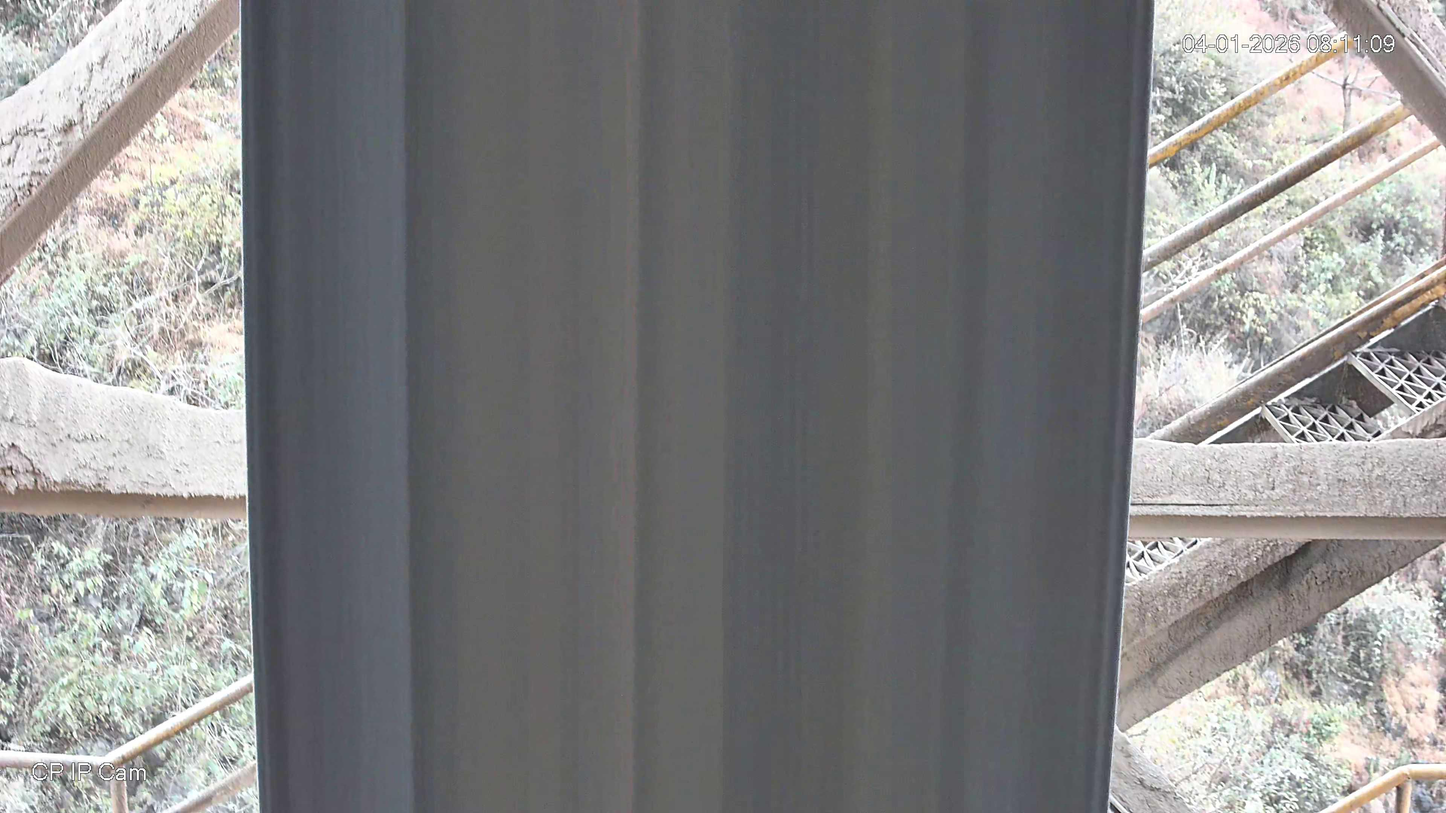belt_roi: (238, 0, 1153, 813)
